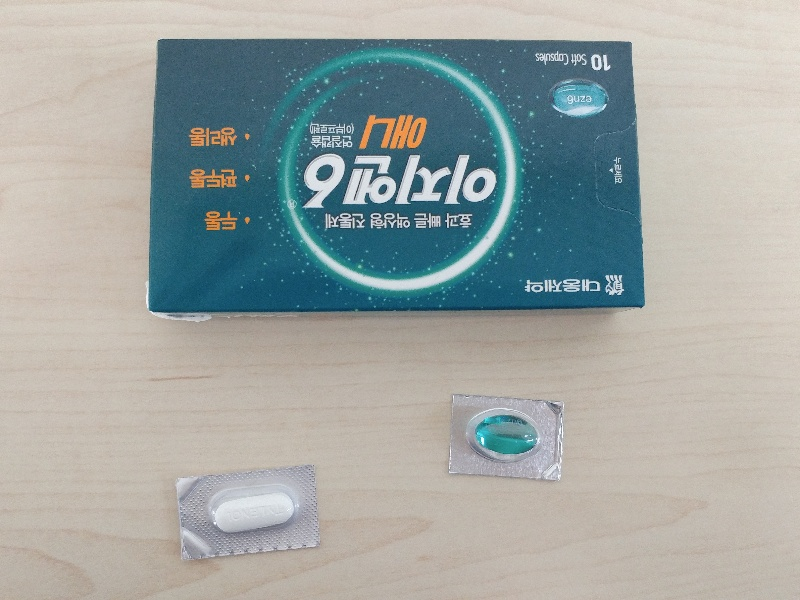ezn: (151, 39, 646, 309)
pill_ezn: (447, 394, 560, 479)
pill_tylenol: (181, 468, 316, 557)
